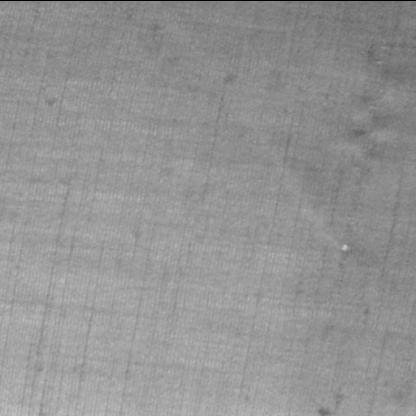hole: (338, 243, 352, 252)
